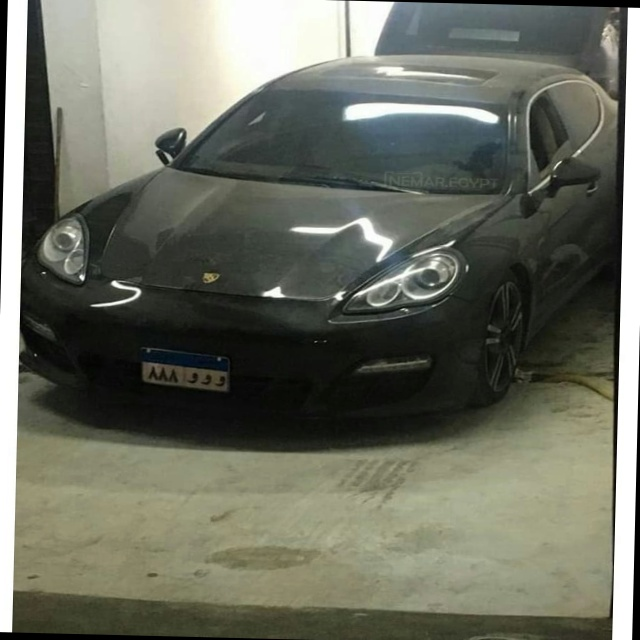License Plate: (135, 344, 233, 397)
